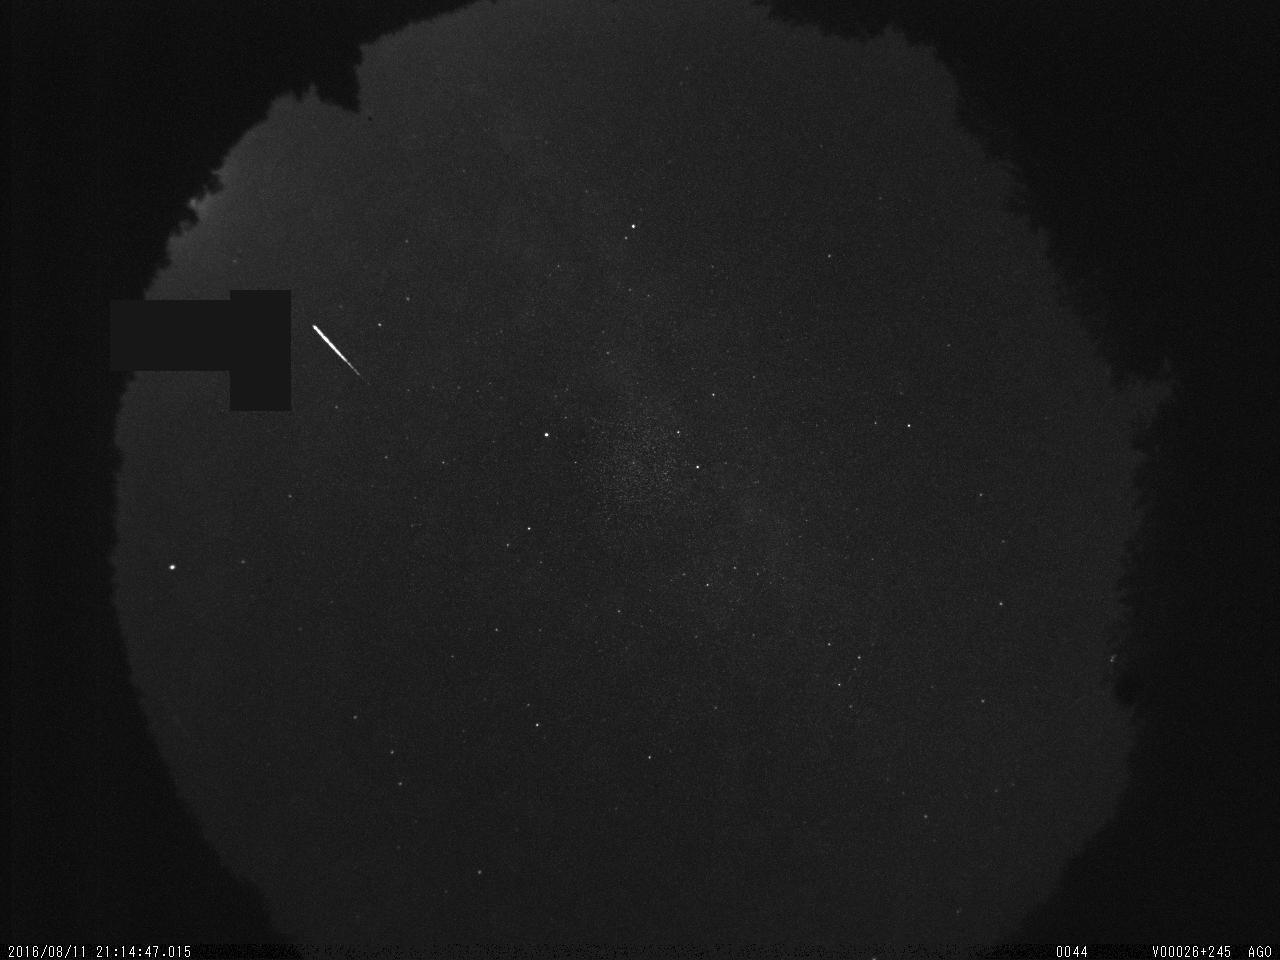meteor: (298, 314, 375, 394)
